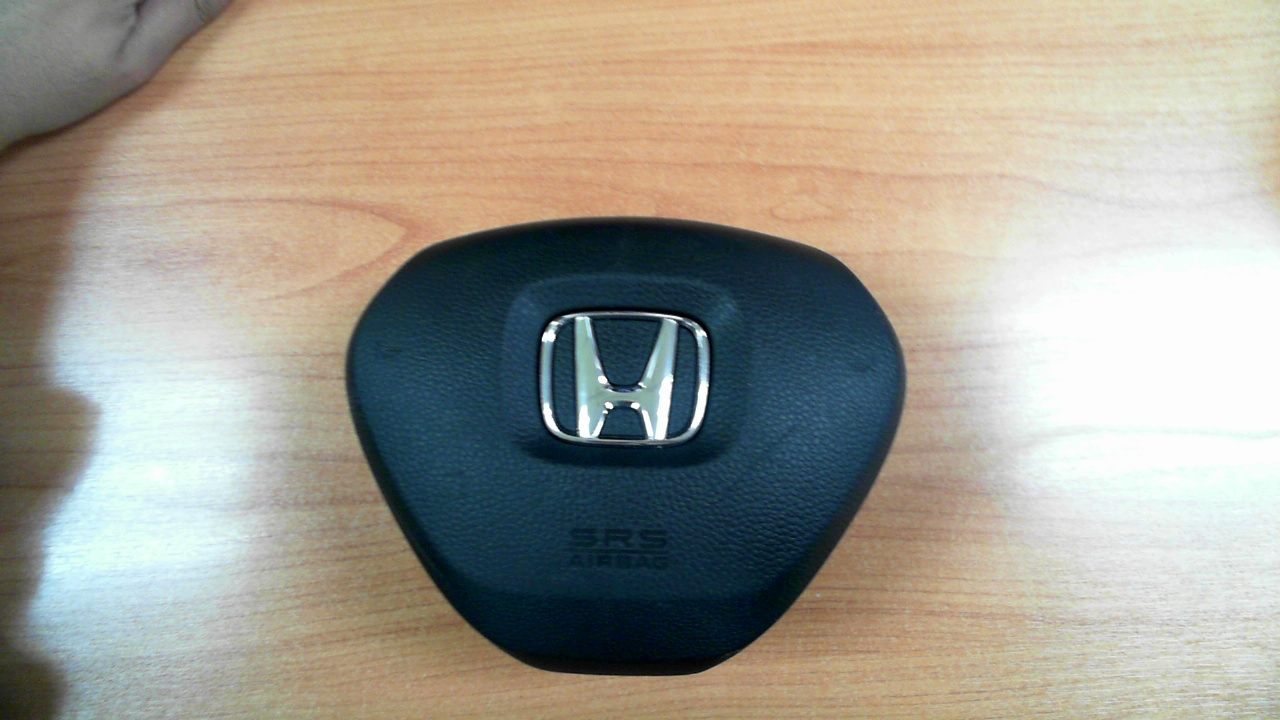Airbag: (344, 215, 907, 678)
Honda: (538, 310, 711, 449)
